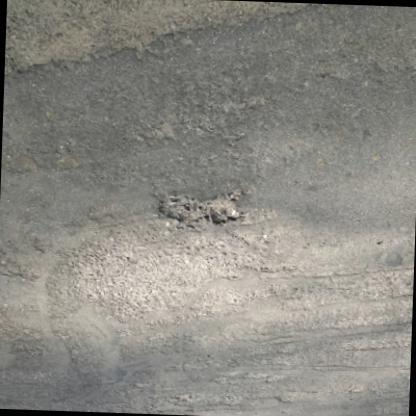pothole: (154, 186, 246, 226)
